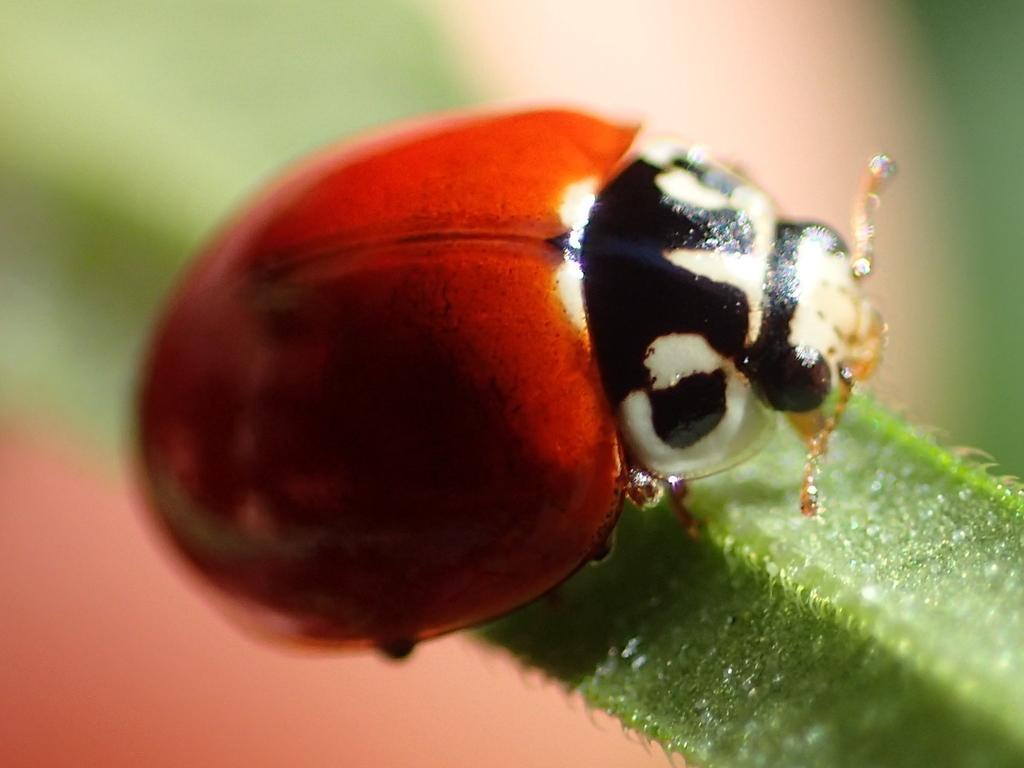ladybug: (129, 101, 899, 667)
